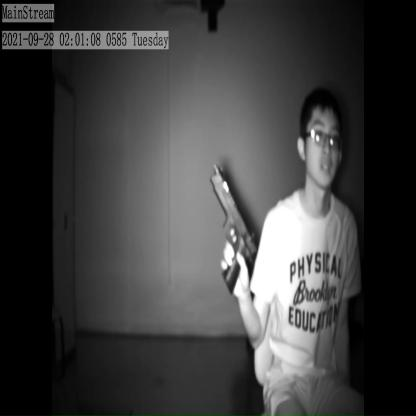weapon: (209, 162, 259, 295)
